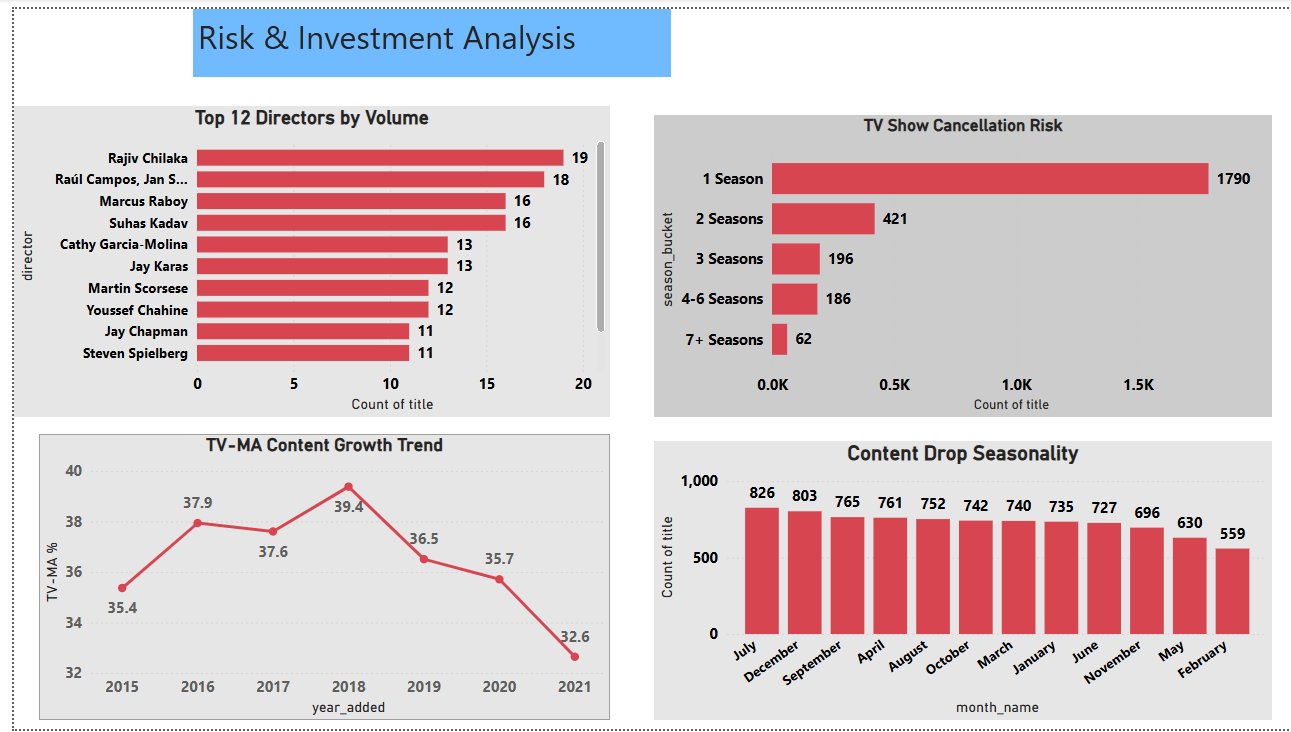

The page's visual inventory and layout, read from the dashboard file:
{"tool":"powerbi","page":{"name":"Risk & Investment Analysis","canvas":[1280,720],"ordinal":3},"visuals":[{"type":"clusteredBarChart","title":"Top 12 Directors by Volume","fields":{"Category":["netflix_cleaned.director"],"Y":["CountNonNull(netflix_cleaned.title)"]},"box":[0,96.8,596.4,310.9],"z":0},{"type":"clusteredBarChart","title":"TV Show Cancellation Risk","fields":{"Category":["netflix_cleaned.season_bucket"],"Y":["CountNonNull(netflix_cleaned.title)"]},"box":[640,106.5,618.2,301.2],"z":1},{"type":"lineChart","title":"TV-MA Content Growth Trend","fields":{"Category":["netflix_cleaned.year_added"],"Y":["netflix_cleaned.TV-MA %"]},"box":[25.4,424.7,571,286.7],"z":2},{"type":"clusteredColumnChart","title":"Content Drop Seasonality","fields":{"Category":["netflix_cleaned.month_name"],"Y":["CountNonNull(netflix_cleaned.title)"]},"box":[640,431.9,618.2,279.5],"z":3},{"type":"textbox","box":[179.1,0,477.9,67.8],"z":4}]}

Visuals, with their boxes in screenshot pixels (x1, y1, x2, y2), scaled from the page's 1280x720 canvas onto the 1291x732 screenshot:
"Top 12 Directors by Volume" clusteredBarChart: BBox(0, 98, 602, 414)
"TV Show Cancellation Risk" clusteredBarChart: BBox(646, 108, 1269, 414)
"TV-MA Content Growth Trend" lineChart: BBox(26, 432, 602, 723)
"Content Drop Seasonality" clusteredColumnChart: BBox(646, 439, 1269, 723)
textbox: BBox(181, 0, 663, 69)
